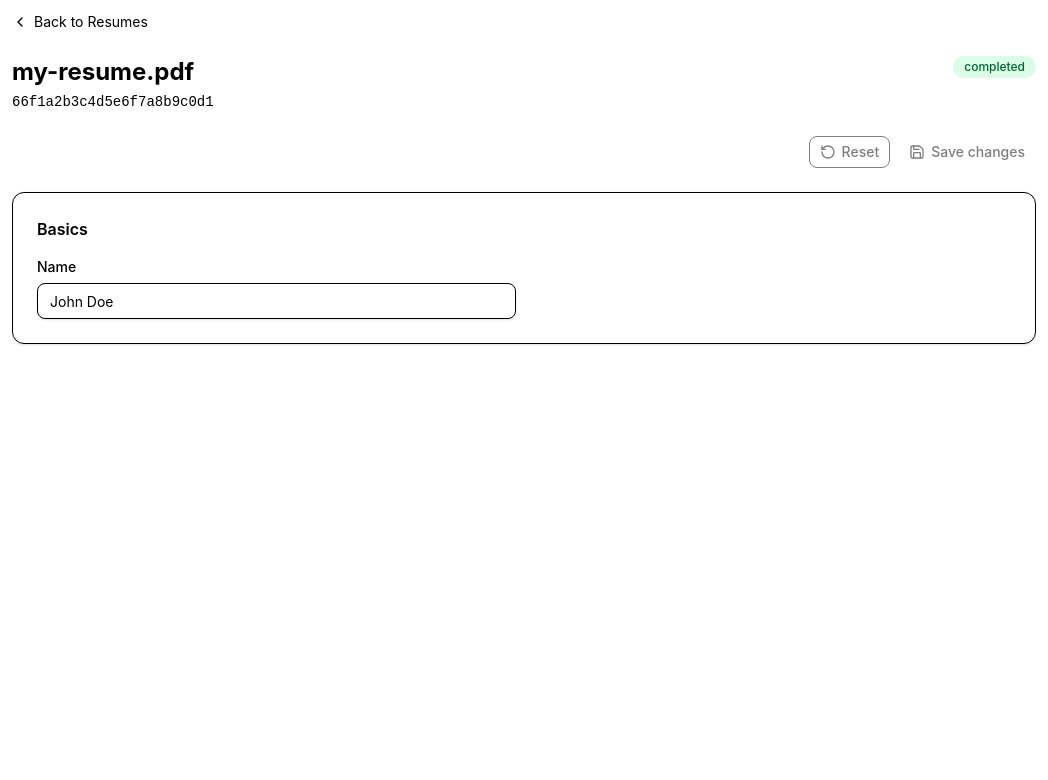
Test: ResumeDetail › submits edited resume fields
The width and height of the screenshot is (1048, 780).
Replace the text in the field labelled "Name" with "Jane Doe". click: (276, 301)
box: [37,283,516,319]
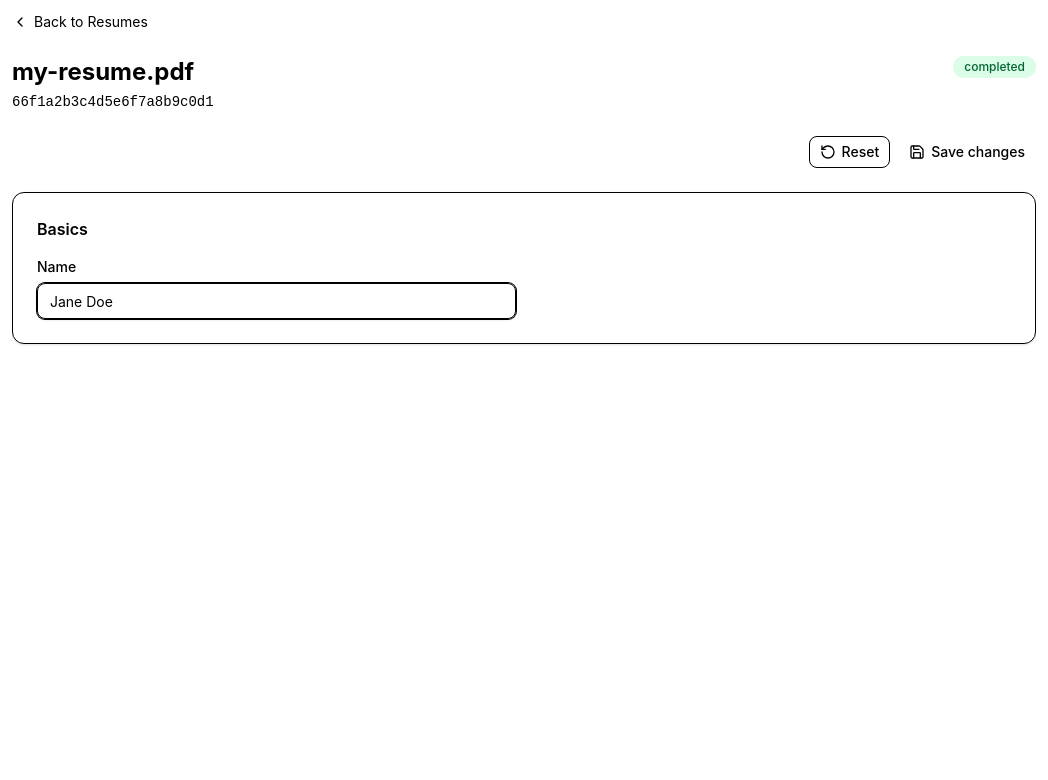
Click the button "Save changes". click: (967, 152)
box: [898,136,1036,168]
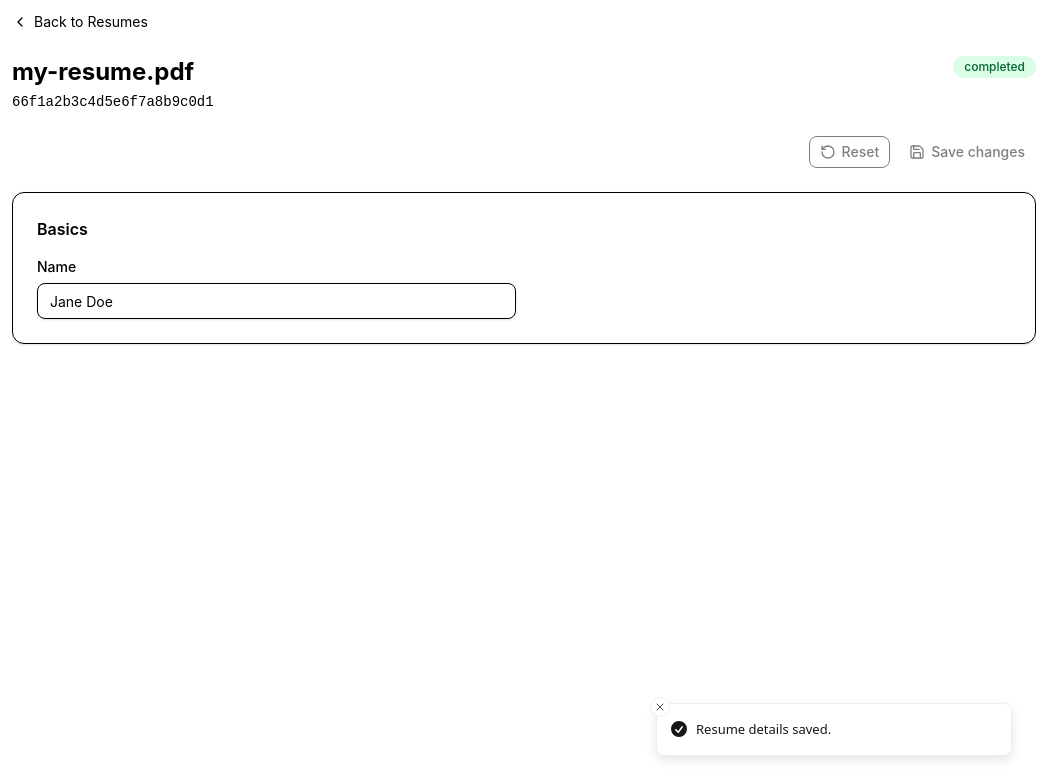
Result: the text "Resume details saved." is shown at [696,720,831,739]
